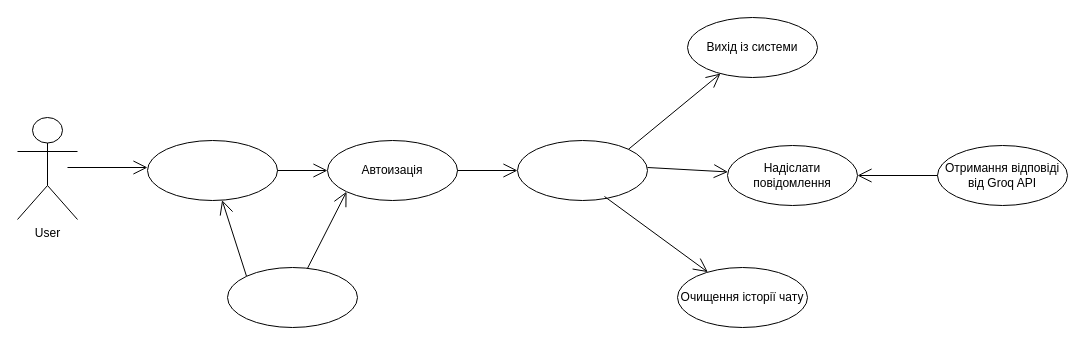
Image size: 1085x345. Some labels were removed from this diagram. Each missing label, with the box of its shape:
Перевірка даних: (226, 266, 358, 328)
Реєстрація: (146, 140, 278, 200)
Робота з чатом: (516, 140, 648, 200)
